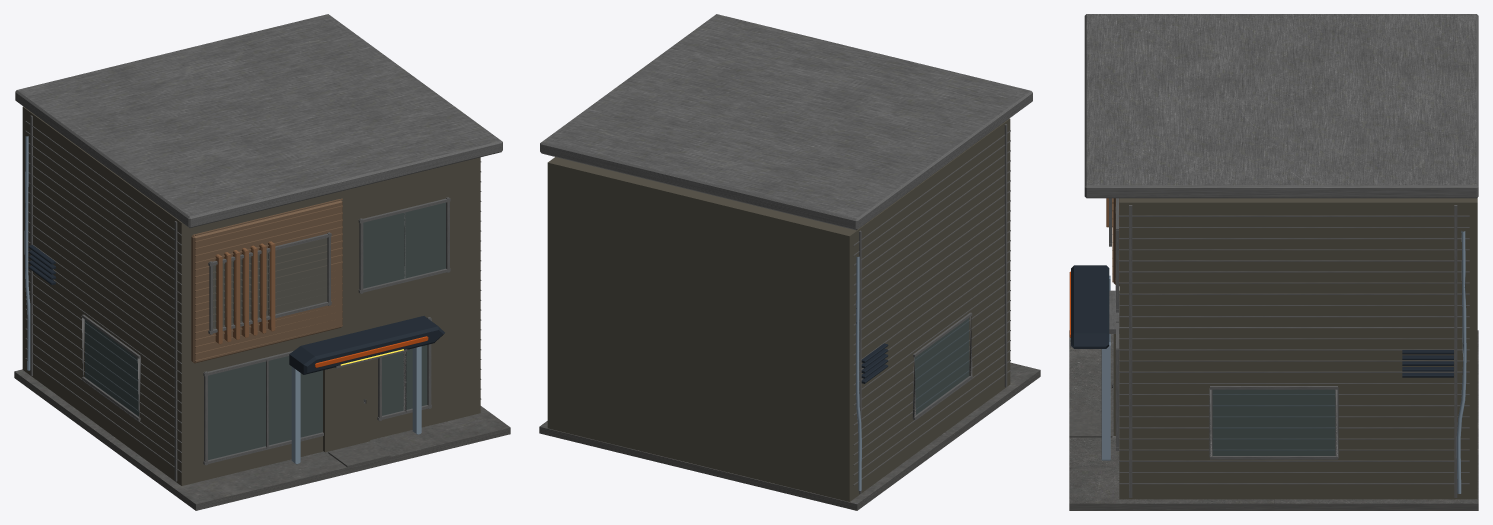
Rendered from house-b.glb.
3 views of the same model, side by side, from view 1: azimuth 30°, elevation 25°; view 2: azimuth 150°, elevation 25°; view 3: azimuth 270°, elevation 25° (orthographic). The views are drawn at different scales.
Visible parts, largest first — view 1: Structure, Steel, Window, Wood, Entry_Canopy_And_Shade, Concrete; view 2: Structure, Steel, Concrete, Window, Entry_Canopy_And_Shade; view 3: Structure, Steel, Concrete, Window, Entry_Canopy_And_Shade.
Part boxes in pixels (bbox=[...]): Structure: bbox=[22, 106, 480, 485]; Steel: bbox=[15, 14, 502, 481]; Window: bbox=[85, 203, 445, 459]; Wood: bbox=[191, 198, 342, 363]; Entry_Canopy_And_Shade: bbox=[24, 136, 444, 464]; Concrete: bbox=[14, 369, 510, 510]; Structure: bbox=[547, 118, 1010, 501]; Steel: bbox=[540, 14, 1032, 493]; Concrete: bbox=[539, 362, 1040, 510]; Window: bbox=[915, 318, 968, 414]; Entry_Canopy_And_Shade: bbox=[856, 256, 888, 490]; Structure: bbox=[1113, 198, 1477, 499]; Steel: bbox=[1084, 14, 1478, 497]; Concrete: bbox=[1069, 330, 1478, 510]; Window: bbox=[1213, 390, 1334, 455]; Entry_Canopy_And_Shade: bbox=[1069, 198, 1466, 493].
Bounding box in the file's own units: 8 × 7 × 8.
Materials: 11 (2 with a texture image).
